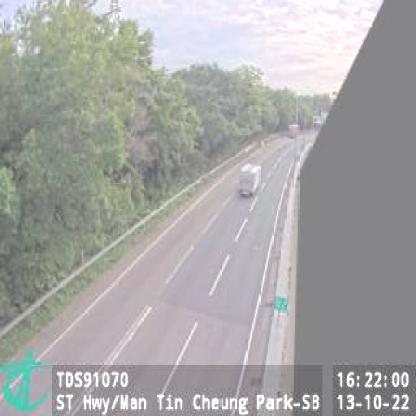Truck: (238, 162, 263, 198)
